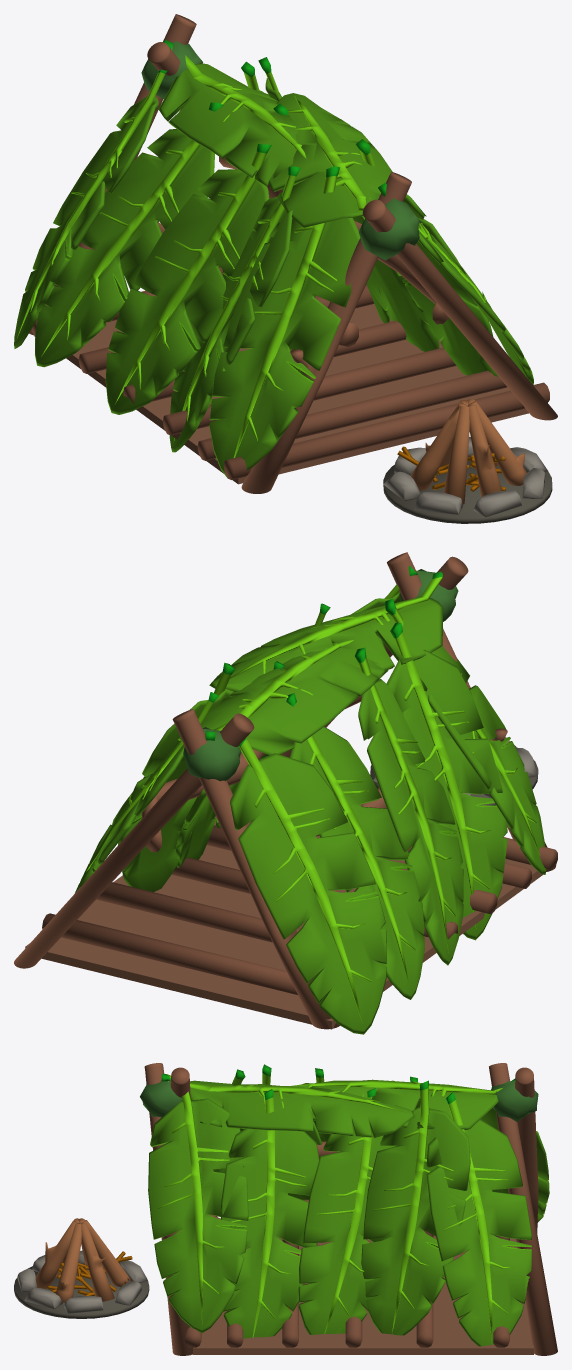
File: Çadır_2.fbx
The picture shows the model from 3 angles, top to bottom: view 1: azimuth 30°, elevation 25°; view 2: azimuth 150°, elevation 25°; view 3: azimuth 270°, elevation 25°; orthographic projection. The views are drawn at different scales.
Parts seen in each view (by area): view 1: Plane.054; view 2: Plane.054; view 3: Plane.054.
Part boxes in pixels (x1=…): Plane.054: x1=14, y1=14, x2=557, y2=523; Plane.054: x1=14, y1=552, x2=557, y2=1034; Plane.054: x1=14, y1=1063, x2=557, y2=1355.
Size of the model in its own units: 876 by 723 by 1497.
